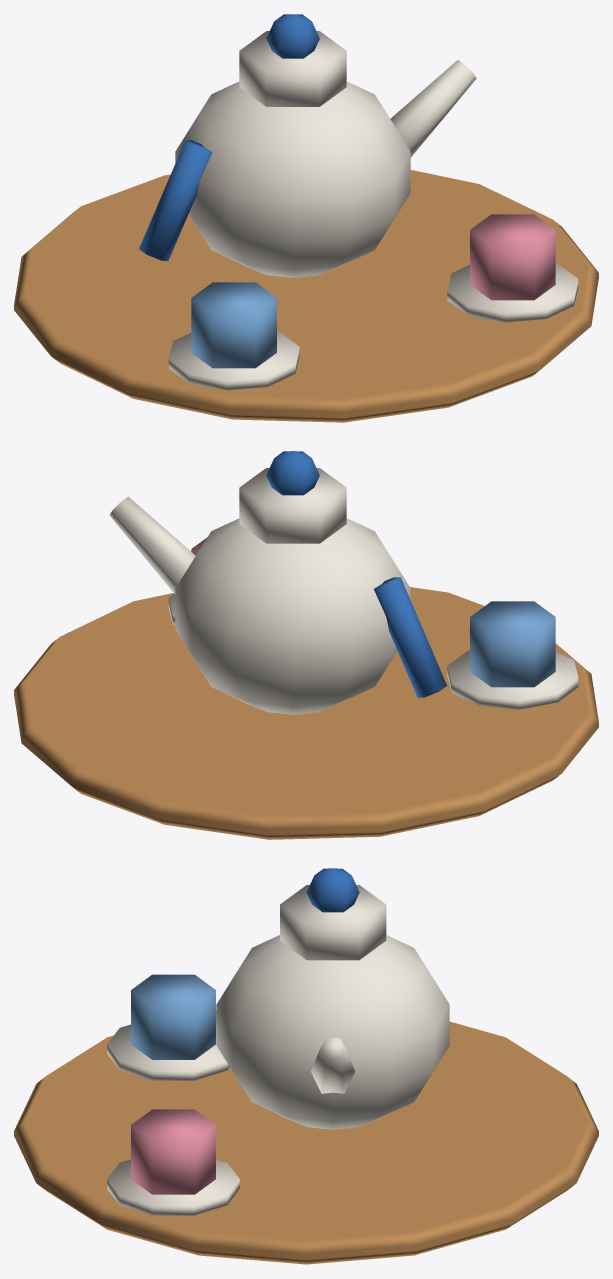
File: tea_set.glb
3 renders of one model, top to bottom at view 1: azimuth 30°, elevation 25°; view 2: azimuth 150°, elevation 25°; view 3: azimuth 270°, elevation 25°, orthographic.
Parts seen in each view (by area): view 1: tea_set; view 2: tea_set; view 3: tea_set.
Boxes of the visible parts, <box> form: tea_set: <box>14,14,598,422</box>; tea_set: <box>14,451,598,839</box>; tea_set: <box>14,868,598,1264</box>.
Size of the model in its own units: 0.44 by 0.23 by 0.44.
